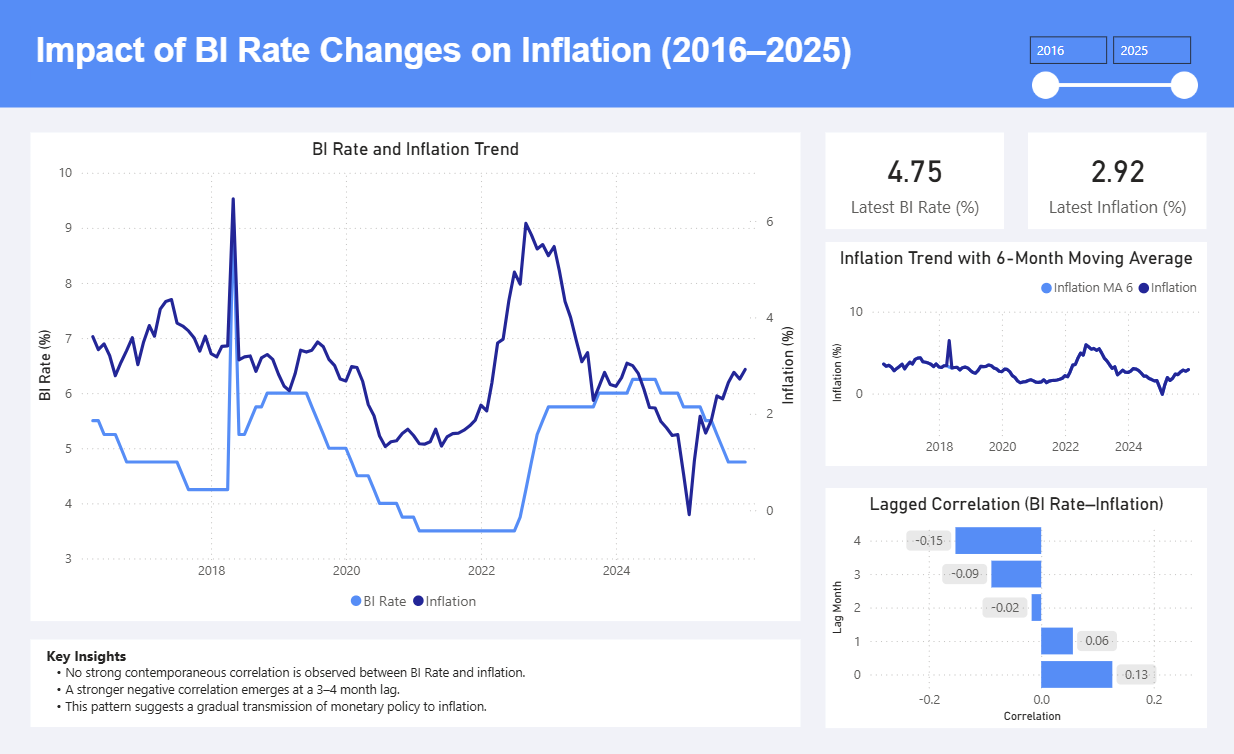

The page's visual inventory and layout, read from the dashboard file:
{"tool":"powerbi","page":{"name":"Page 1","canvas":[1180,720],"ordinal":0},"visuals":[{"type":"card","fields":{"Values":["macro_monthly_clean.Latest BI Rate"]},"box":[786.7,126.7,170,91.7],"z":0},{"type":"card","fields":{"Values":["macro_monthly_clean.Latest Inflation"]},"box":[980,126.7,170,91.7],"z":1000},{"type":"lineChart","title":"BI Rate and Inflation Trend","fields":{"Category":["macro_monthly_clean.period.Variation.Date Hierarchy.Year","macro_monthly_clean.period.Variation.Date Hierarchy.Month"],"Y":["Sum(macro_monthly_clean.bi_rate)"],"Y2":["Sum(macro_monthly_clean.inflation)"]},"box":[30,126.7,733.3,465],"z":2000},{"type":"lineChart","title":"Inflation Trend with 6-Month Moving Average","fields":{"Y":["macro_monthly_clean.Inflation MA 3","Sum(macro_monthly_clean.inflation)"],"Category":["macro_monthly_clean.period.Variation.Date Hierarchy.Year","macro_monthly_clean.period.Variation.Date Hierarchy.Month"]},"box":[786.7,231.7,363.3,213.3],"z":3000},{"type":"barChart","title":"Lagged Correlation (BI Rate–Inflation)","fields":{"Category":["correlation_lag_table.lag_month"],"Y":["Sum(correlation_lag_table.correlation)"]},"box":[786.7,465,363.3,228.3],"z":4000},{"type":"shape","box":[0,0,1180,103.3],"z":5000},{"type":"textbox","box":[30,25,798.3,51.7],"z":6000},{"type":"slicer","fields":{"Values":["macro_monthly_clean.period.Variation.Date Hierarchy.Year"]},"box":[968.3,25,181.7,73.3],"z":7000},{"type":"textbox","box":[30,610,733.3,83.3],"z":7001}]}

Visuals, with their boxes in screenshot pixels (x1, y1, x2, y2), scaled from the page's 1180x720 canvas onto the 1234x754 screenshot:
card - macro_monthly_clean.Latest BI Rate: rect(823, 133, 1000, 229)
card - macro_monthly_clean.Latest Inflation: rect(1025, 133, 1203, 229)
"BI Rate and Inflation Trend" lineChart: rect(31, 133, 798, 620)
"Inflation Trend with 6-Month Moving Average" lineChart: rect(823, 243, 1203, 466)
"Lagged Correlation (BI Rate–Inflation)" barChart: rect(823, 487, 1203, 726)
shape: rect(0, 0, 1233, 108)
textbox: rect(31, 26, 866, 80)
slicer - macro_monthly_clean.period.Variation.Date Hierarchy.Year: rect(1013, 26, 1203, 103)
textbox: rect(31, 639, 798, 726)
